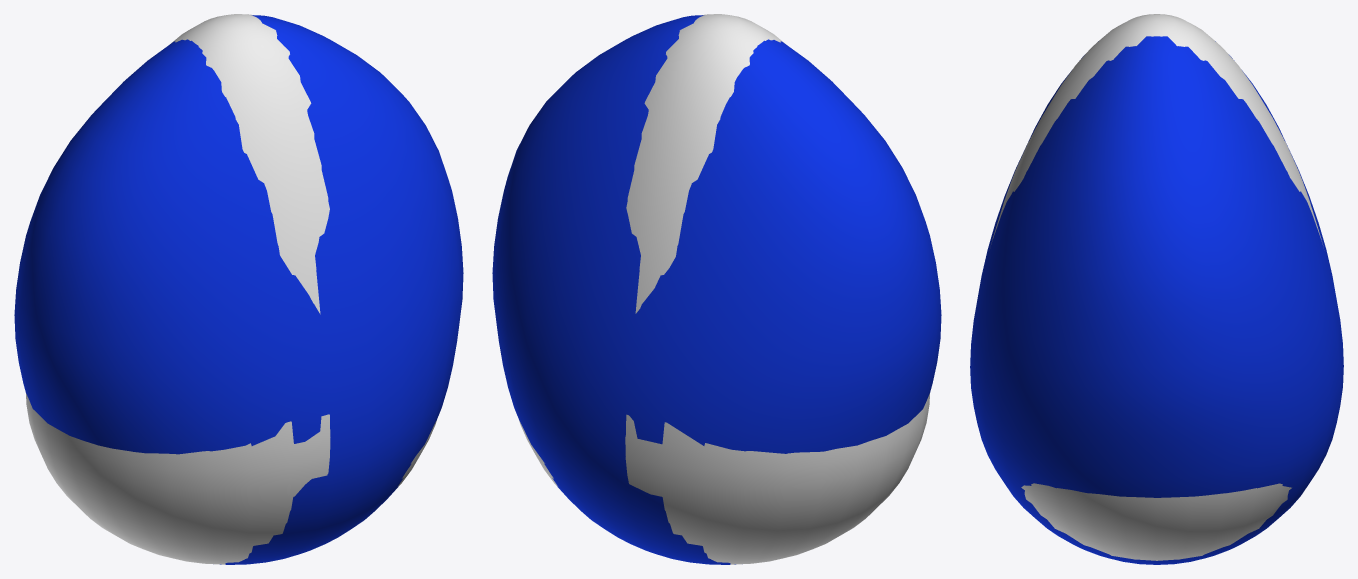
Rendered from smooth_sphere_3.glb.
The picture shows the model from 3 angles, left to right: view 1: azimuth 30°, elevation 25°; view 2: azimuth 150°, elevation 25°; view 3: azimuth 270°, elevation 25°; orthographic projection.
Visible parts, largest first — view 1: Sphere.003, Sphere.002; view 2: Sphere.003, Sphere.002; view 3: Sphere.003, Sphere.002.
Part boxes in pixels (x1,y1,x2,y2): Sphere.003: [14, 15, 463, 564]; Sphere.002: [26, 14, 436, 564]; Sphere.003: [492, 15, 941, 564]; Sphere.002: [519, 14, 929, 564]; Sphere.003: [970, 36, 1343, 564]; Sphere.002: [991, 14, 1323, 560].
Bounding box in the file's own units: 3.32 × 4.07 × 2.64.
